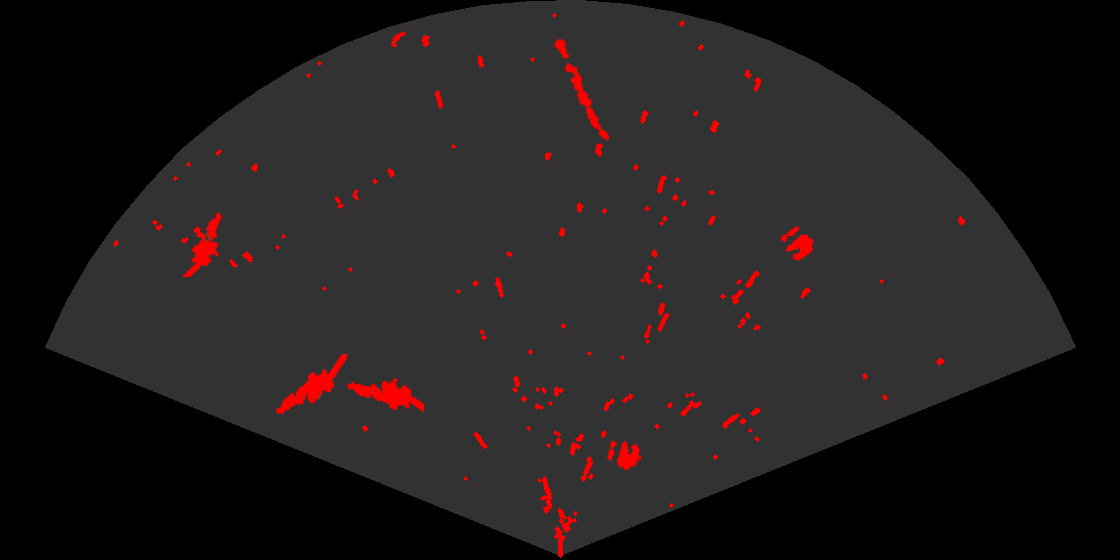ball: (779, 225, 815, 262), (606, 439, 641, 472)
chain: (552, 36, 611, 142)
frogman: (274, 354, 347, 416), (345, 377, 424, 414), (180, 211, 224, 277)
